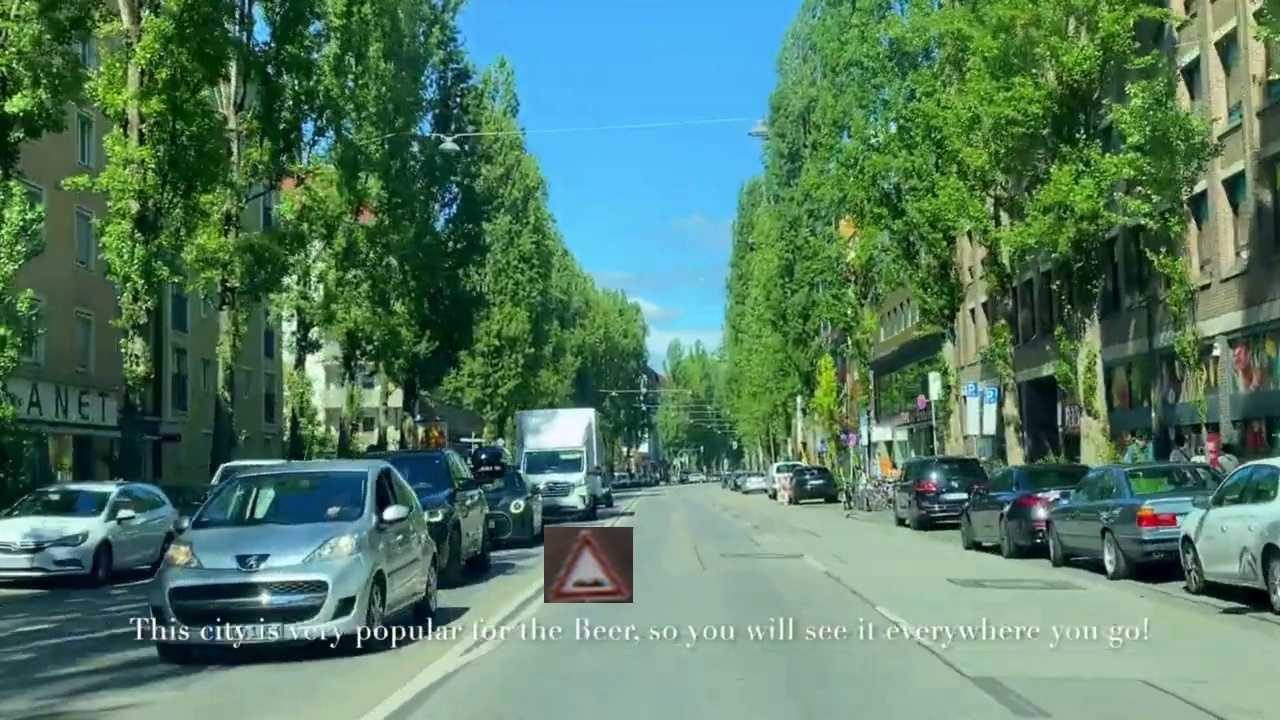Bumpy road: (544, 527, 633, 603)
